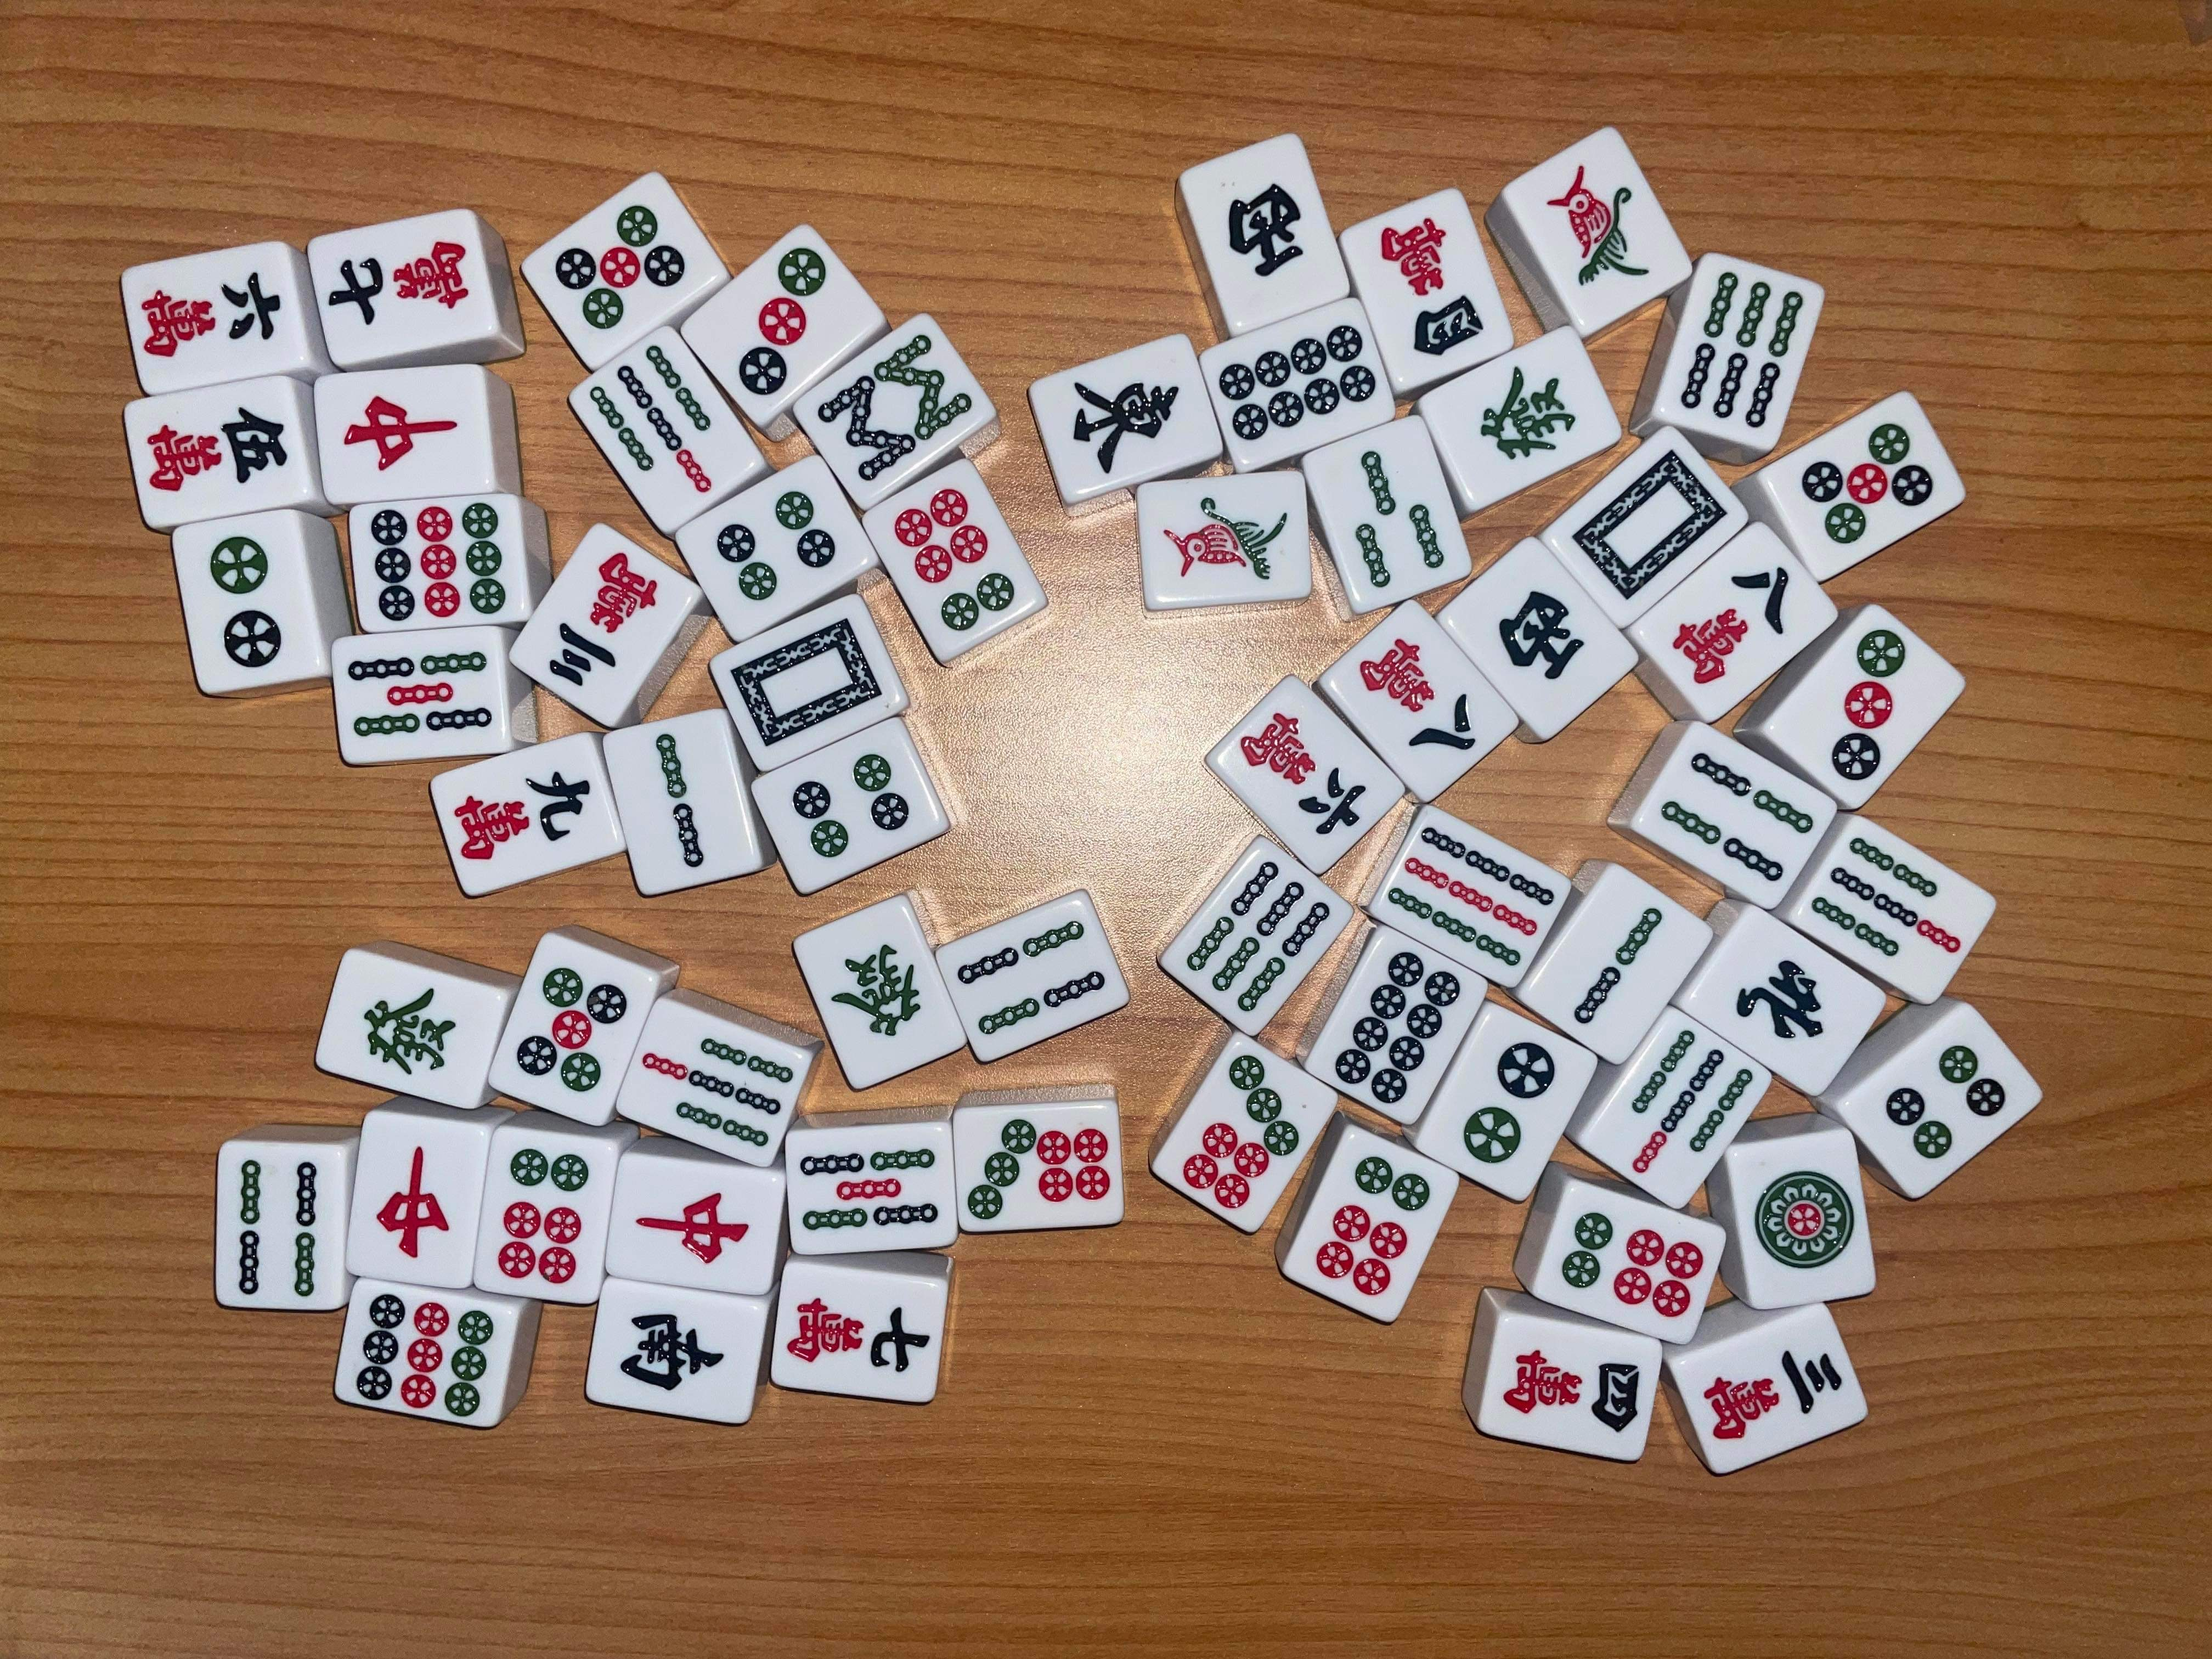b-1: (1545, 164, 1653, 293), (1163, 495, 1291, 584)
b-2: (1569, 906, 1665, 1030), (648, 734, 711, 870)
b-3: (1352, 450, 1446, 591)
b-4: (1656, 751, 1815, 882), (954, 920, 1106, 1035)
b-5: (345, 652, 491, 741)
b-6: (1183, 861, 1331, 1016), (1679, 268, 1804, 429)
b-7: (589, 342, 712, 498), (1811, 836, 1965, 957), (1629, 1030, 1754, 1173)
b-8: (817, 335, 972, 483)
b-9: (1386, 826, 1555, 962)
c-3: (545, 549, 662, 692), (1702, 1349, 1844, 1439)
c-4: (1376, 218, 1486, 357), (1503, 1349, 1642, 1436)
c-5: (145, 406, 293, 504)
c-6: (1235, 709, 1367, 840), (134, 268, 286, 369)
c-7: (327, 239, 474, 328)
c-8: (1357, 636, 1482, 765), (1672, 565, 1789, 687)
c-9: (453, 769, 589, 861)
d-1: (1749, 1169, 1857, 1272)
d-2: (1458, 1040, 1557, 1164), (206, 537, 286, 673)
d-3: (735, 246, 829, 397), (1831, 629, 1909, 782)
d-4: (1885, 1044, 2008, 1161), (716, 490, 834, 603), (791, 751, 911, 859), (235, 1157, 317, 1298)
d-5: (554, 204, 686, 333), (1801, 422, 1933, 547), (512, 965, 627, 1094), (798, 1148, 939, 1230)
d-6: (890, 484, 1015, 633), (1315, 1154, 1432, 1298), (1561, 1213, 1705, 1317), (496, 1147, 590, 1286)
d-7: (1181, 1054, 1301, 1211), (639, 1033, 796, 1150), (965, 1119, 1113, 1220), (782, 1297, 935, 1373)
d-8: (1334, 951, 1461, 1105), (1217, 326, 1378, 441)
d-9: (354, 1293, 496, 1417), (369, 502, 510, 622)
honors-east: (1061, 378, 1181, 477)
honors-green: (352, 983, 460, 1079), (1480, 364, 1578, 460), (829, 943, 921, 1039)
honors-north: (1735, 955, 1827, 1046)
honors-red: (341, 389, 467, 471), (632, 1187, 756, 1267), (374, 1145, 453, 1260)
honors-south: (617, 1305, 725, 1401)
honors-west: (1498, 589, 1587, 681), (1228, 181, 1306, 282)
honors-white: (1573, 450, 1730, 599), (730, 617, 883, 746)
